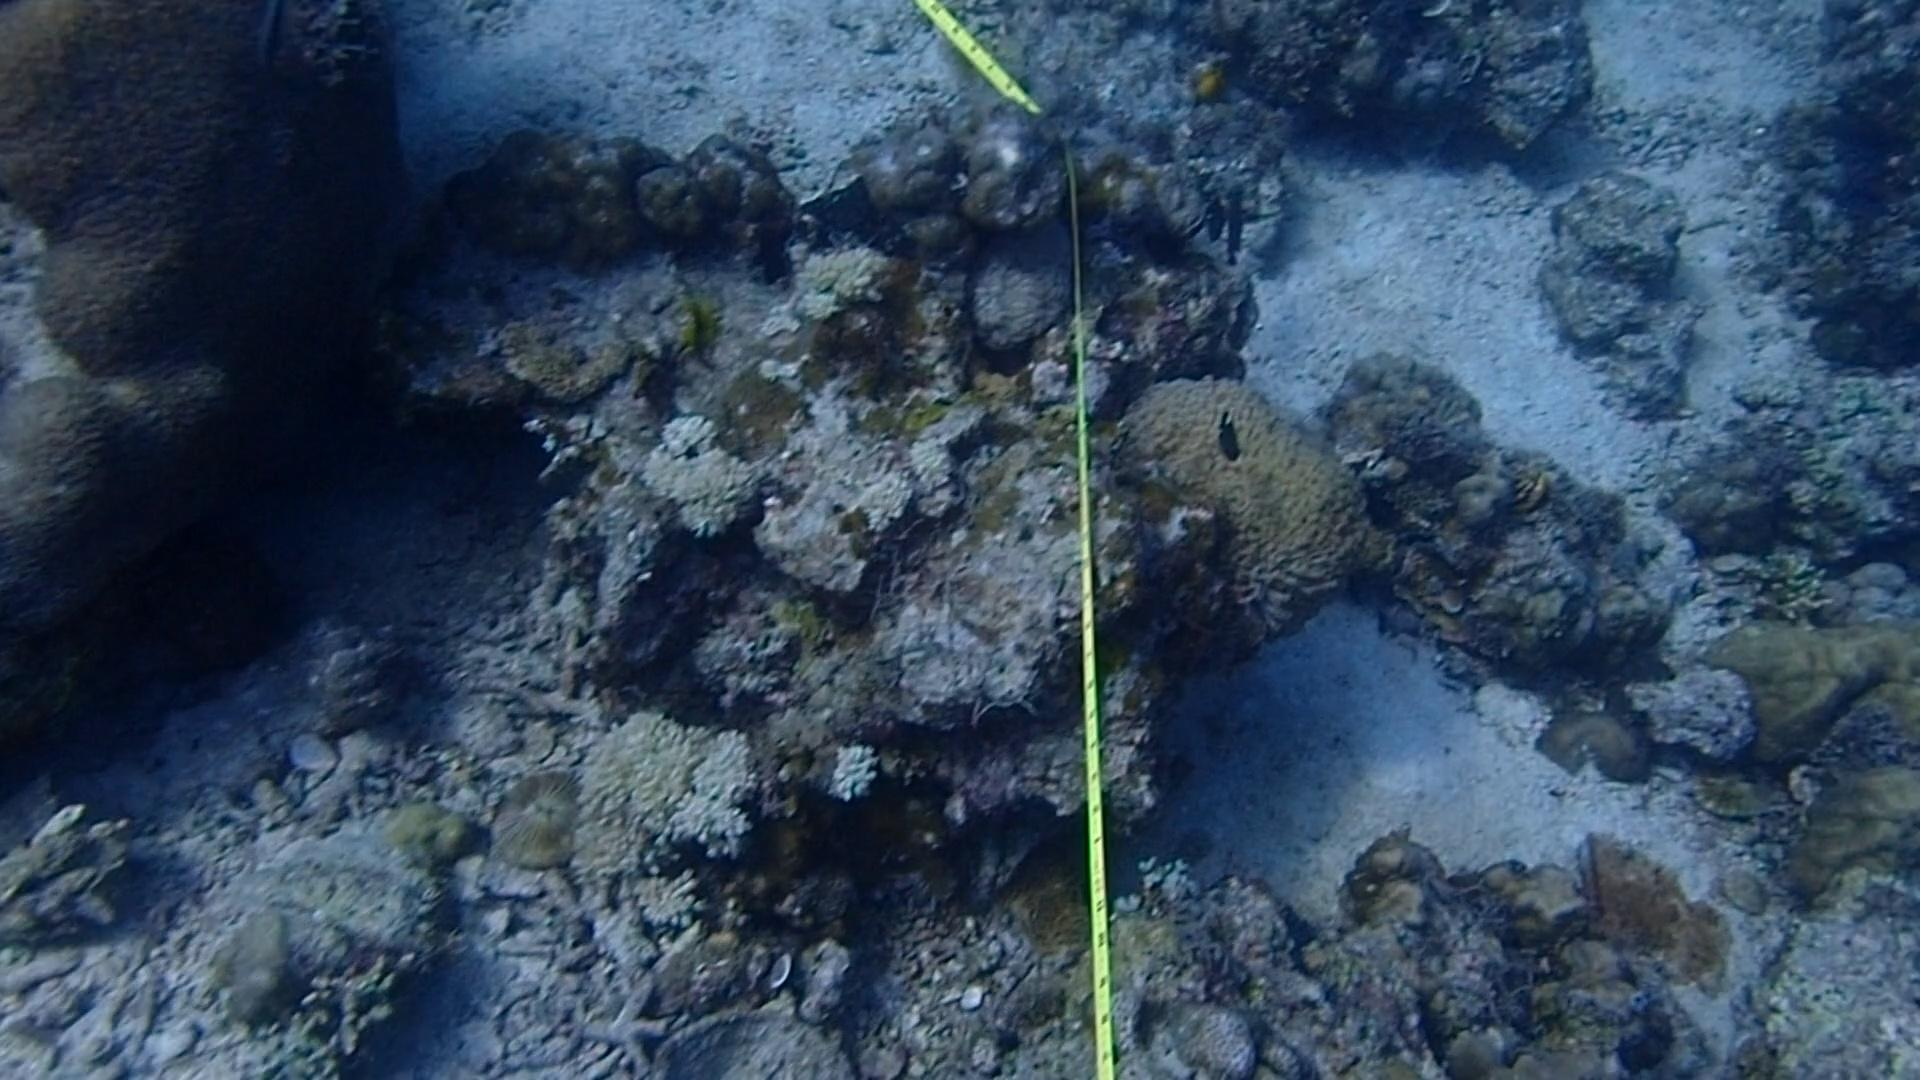Dark Fish: (1350, 465, 1416, 555), (1209, 272, 1273, 355), (1213, 193, 1258, 258), (1205, 405, 1247, 472), (1193, 181, 1237, 245)
